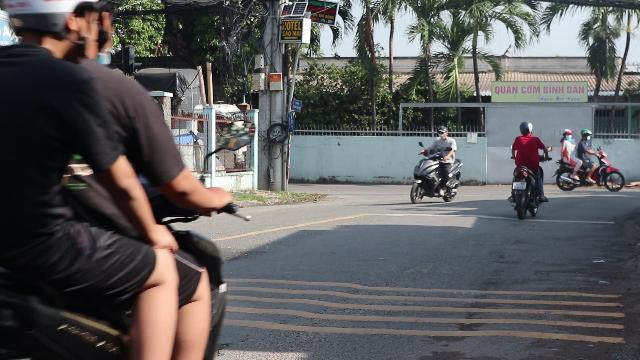motorcyclist: (2, 1, 245, 357)
